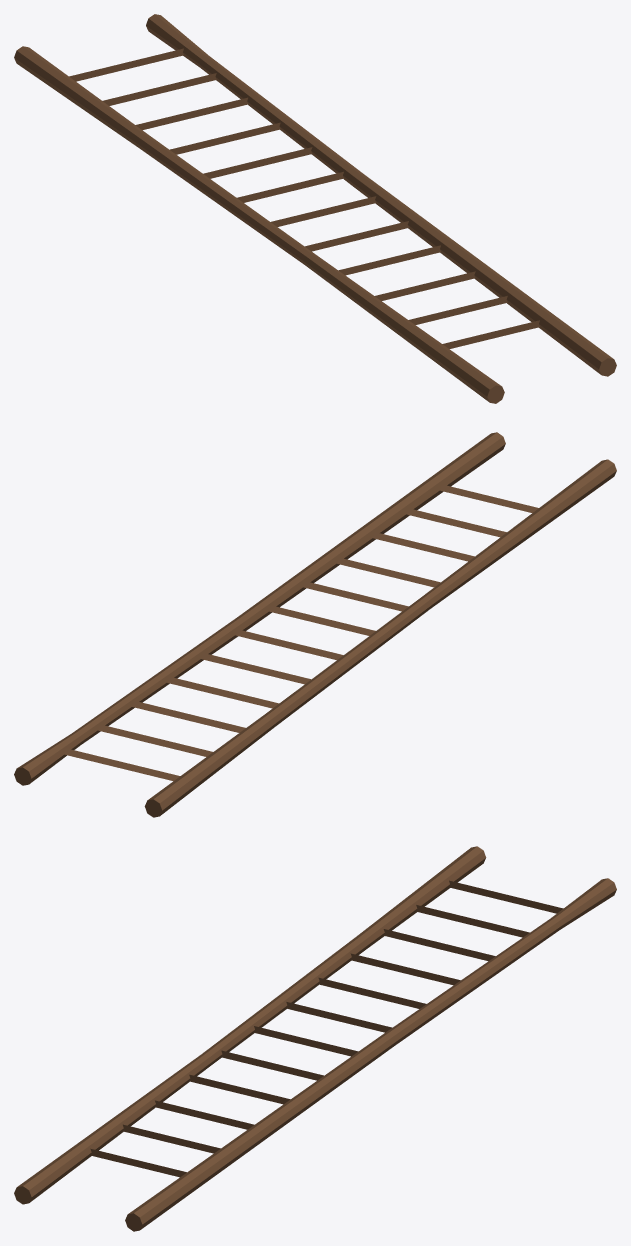
The model's file is Ladder_02_Bridge.fbx.
The picture shows the model from 3 angles, top to bottom: view 1: azimuth 30°, elevation 25°; view 2: azimuth 150°, elevation 25°; view 3: azimuth 330°, elevation 25°; orthographic projection.
Visible parts, largest first — view 1: Ladder_2 bridge; view 2: Ladder_2 bridge; view 3: Ladder_2 bridge.
Part boxes in pixels (x1,y1,x2,y2): Ladder_2 bridge: [14, 14, 616, 403]; Ladder_2 bridge: [14, 432, 616, 817]; Ladder_2 bridge: [14, 846, 616, 1231].
Bounding box in the file's own units: 51.97 × 6.16 × 280.
